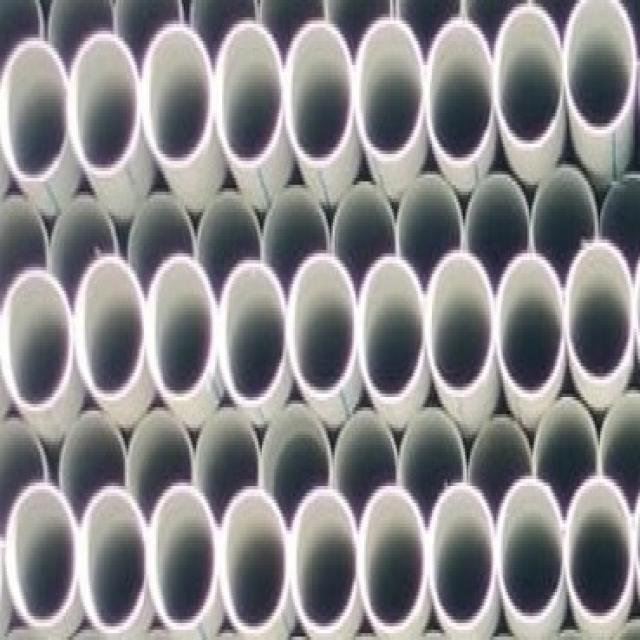pipe: (0, 464, 82, 627), (286, 236, 359, 416), (491, 465, 568, 633), (356, 236, 426, 416), (73, 250, 151, 410), (143, 252, 218, 414), (488, 0, 570, 148), (565, 227, 636, 394), (0, 263, 75, 421), (425, 240, 496, 406), (561, 471, 637, 625), (79, 473, 149, 640), (354, 13, 426, 174), (217, 254, 291, 410), (285, 17, 357, 177), (430, 471, 498, 640), (291, 475, 360, 640), (141, 21, 210, 183), (212, 21, 283, 176), (66, 32, 139, 180), (152, 482, 220, 640), (563, 0, 639, 140), (495, 252, 566, 400), (359, 479, 429, 629), (219, 486, 288, 637), (424, 21, 493, 168), (0, 35, 71, 177), (259, 385, 335, 513), (127, 387, 193, 530), (534, 154, 602, 273), (52, 403, 130, 506), (191, 394, 261, 505), (402, 392, 467, 509), (327, 170, 399, 265), (194, 180, 260, 283), (124, 190, 197, 278), (2, 403, 47, 545), (536, 396, 599, 494), (467, 395, 534, 487), (51, 190, 118, 281), (263, 188, 329, 278), (333, 402, 396, 495), (468, 160, 531, 252), (394, 176, 463, 259), (1, 185, 56, 267), (600, 383, 640, 491), (603, 162, 640, 247)
